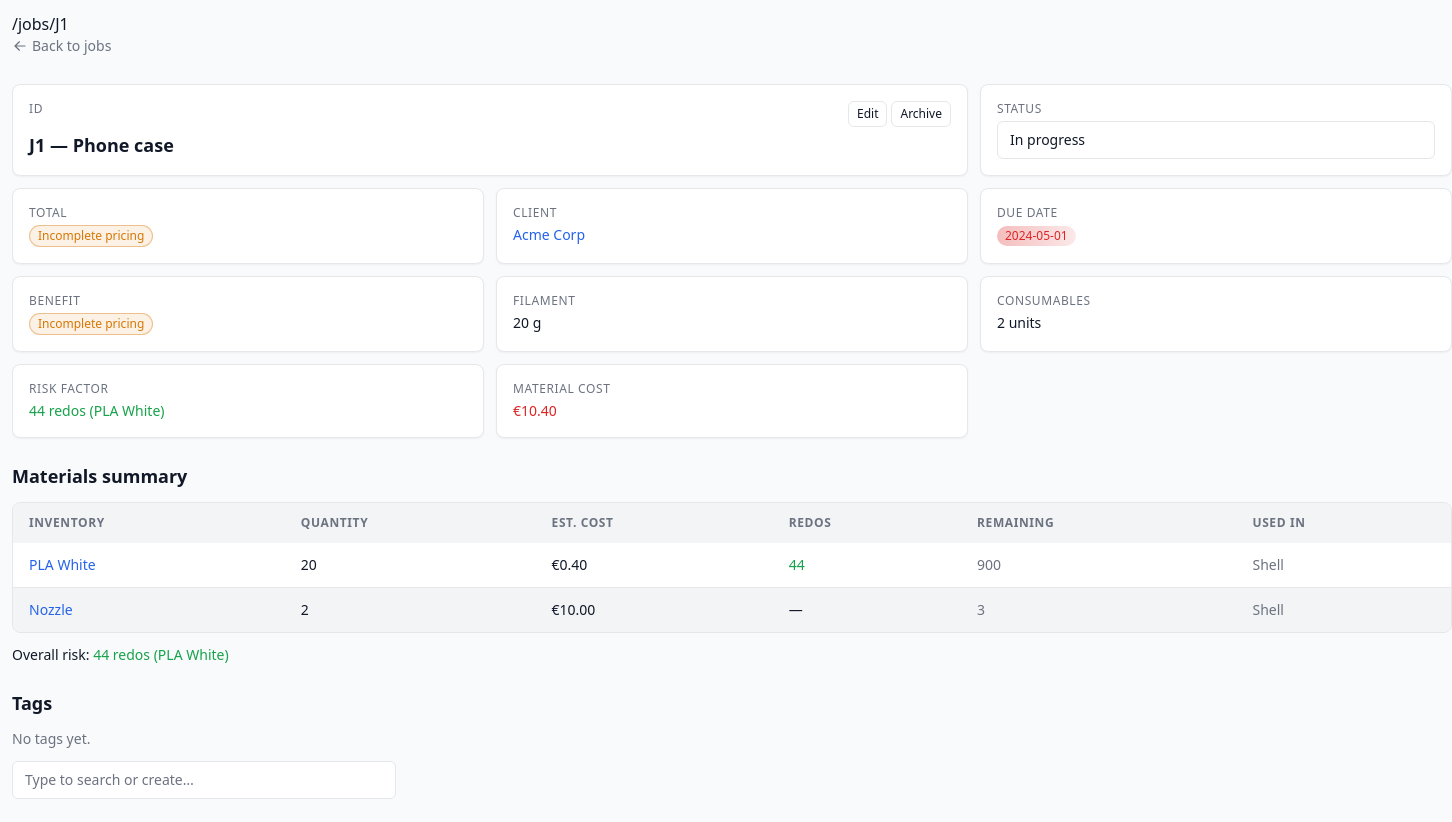
Test case: JobDetailPage › bands the due date and edits it inline
The width and height of the screenshot is (1452, 822).
Step 1. Click the button with test id "job-due-date-edit" → [1036, 236], box [997,225,1076,246]
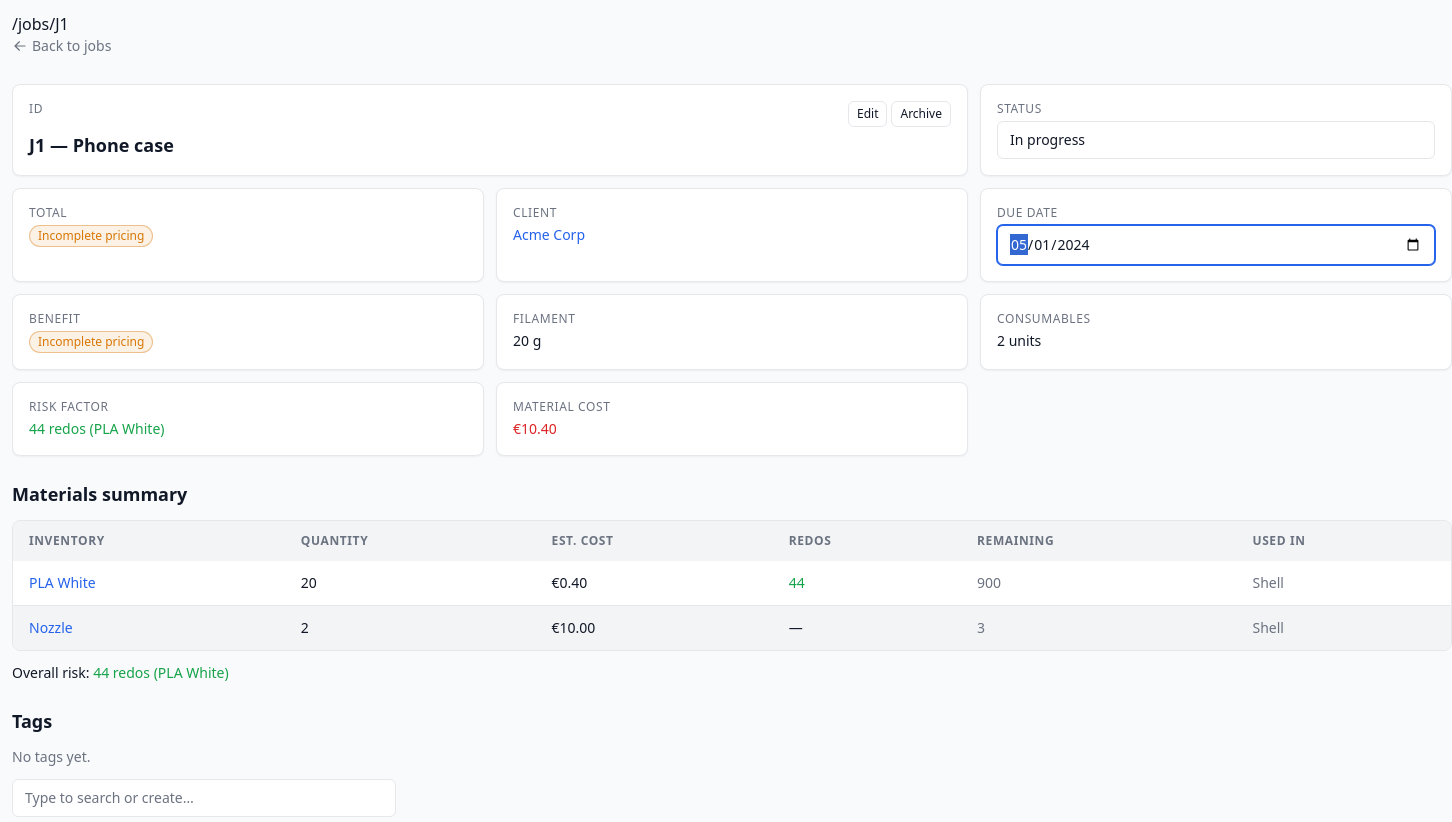
Step 2. Type "2024-06-30" into the date field named "Due date for job J1" → [1216, 245], box [997,225,1435,265]
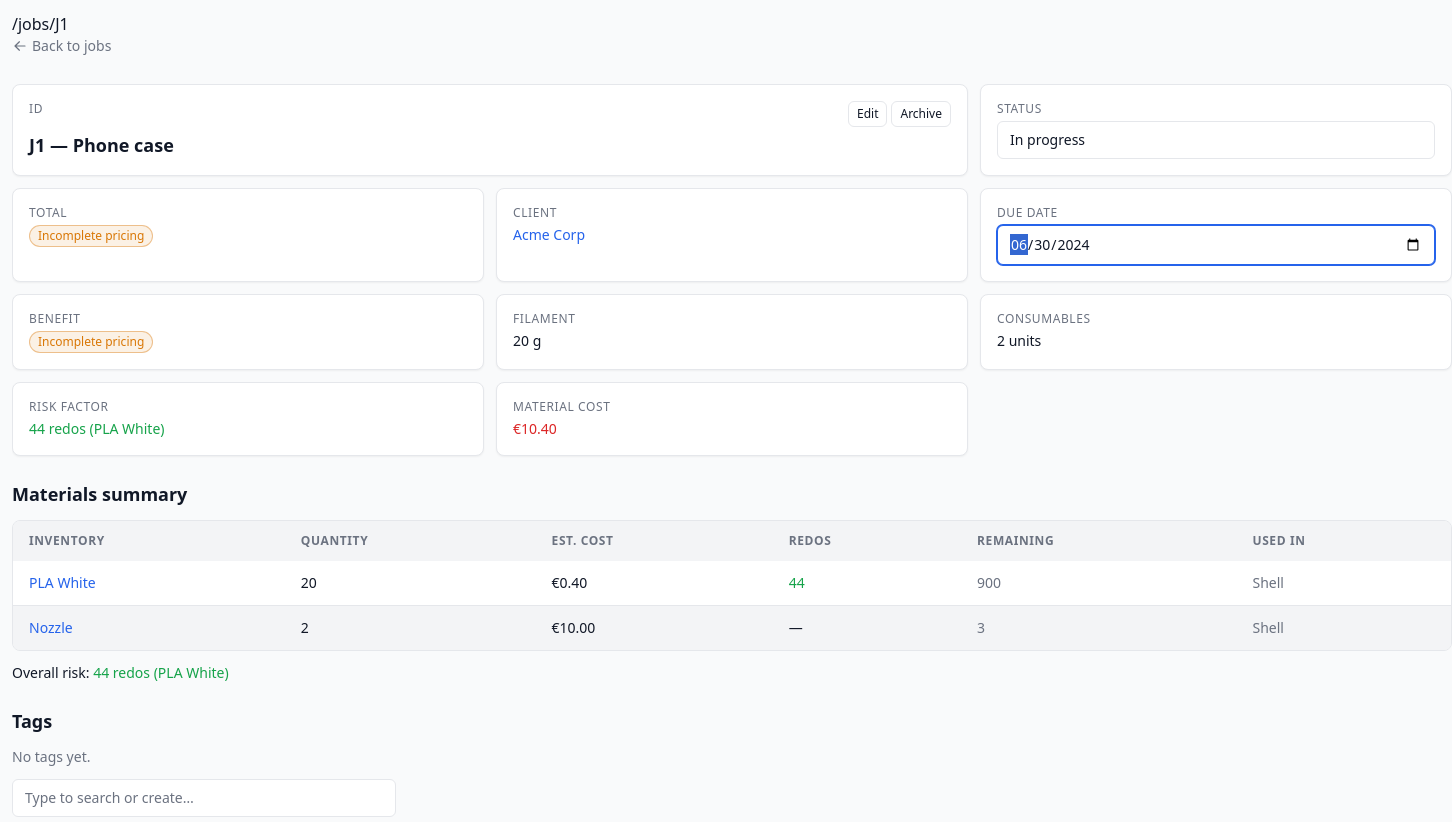
Step 3. Press Tab
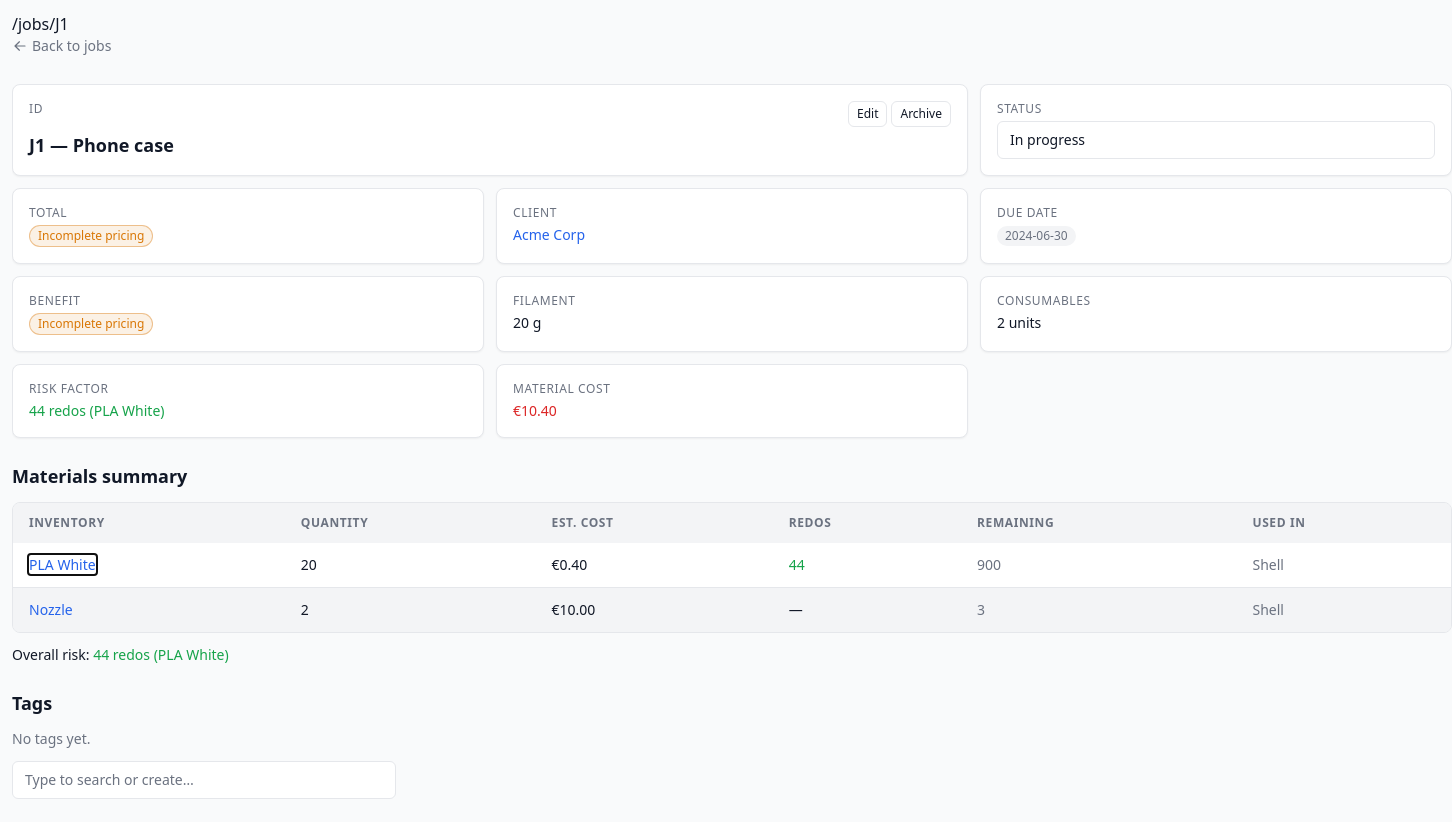
Now the text "2024-06-30" is shown, box [997,226,1076,246]
